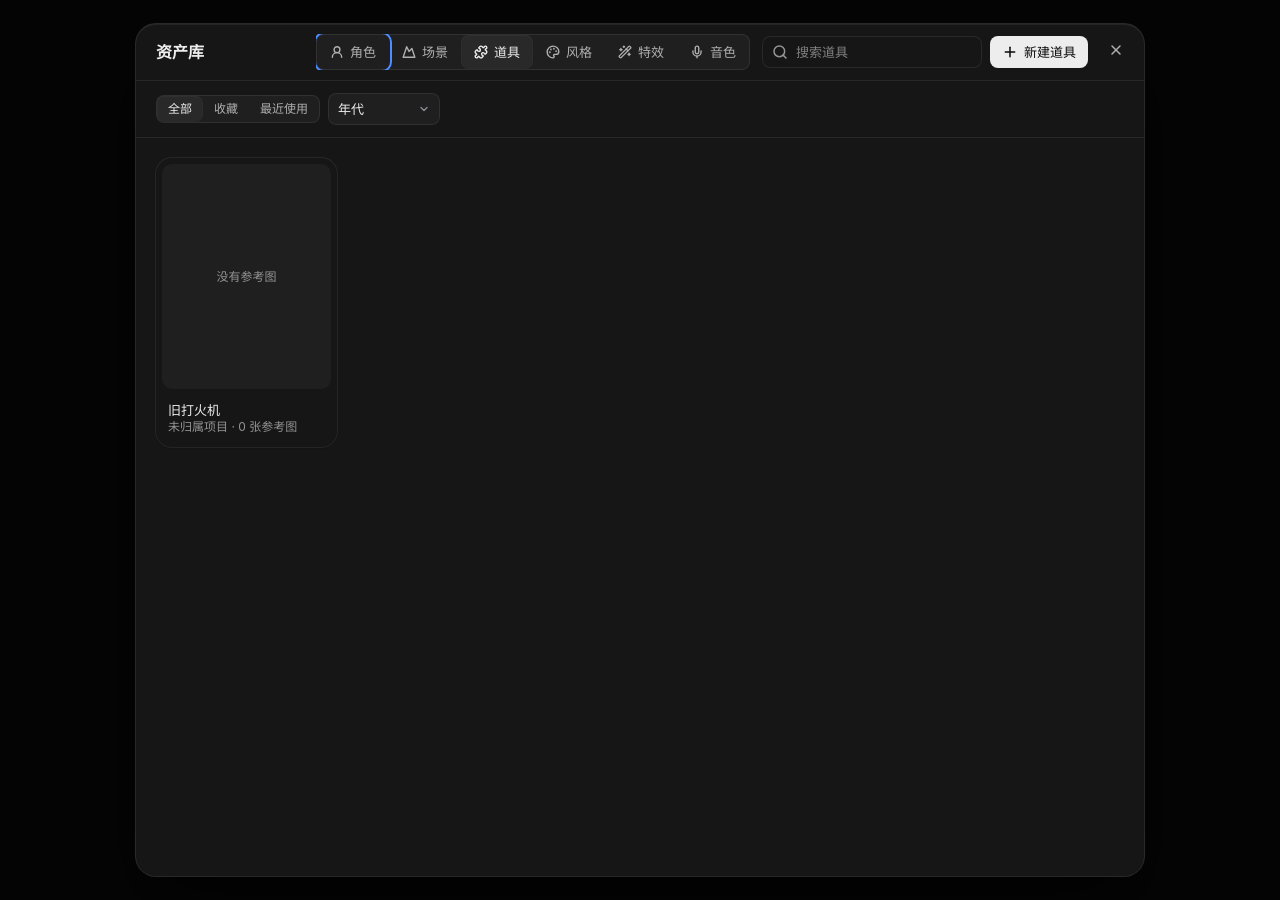
Test: 资产库面板的筛选与来源 › 搜索没有结果时说明是筛选结果，清空后恢复列表
Expected: the text "旧打火机" is shown, top-left (168, 402), bottom-right (220, 418)
Type "不存在的名字" into the search field labelled "搜索道具" at (884,52), box top-left (796, 43), bottom-right (972, 61)
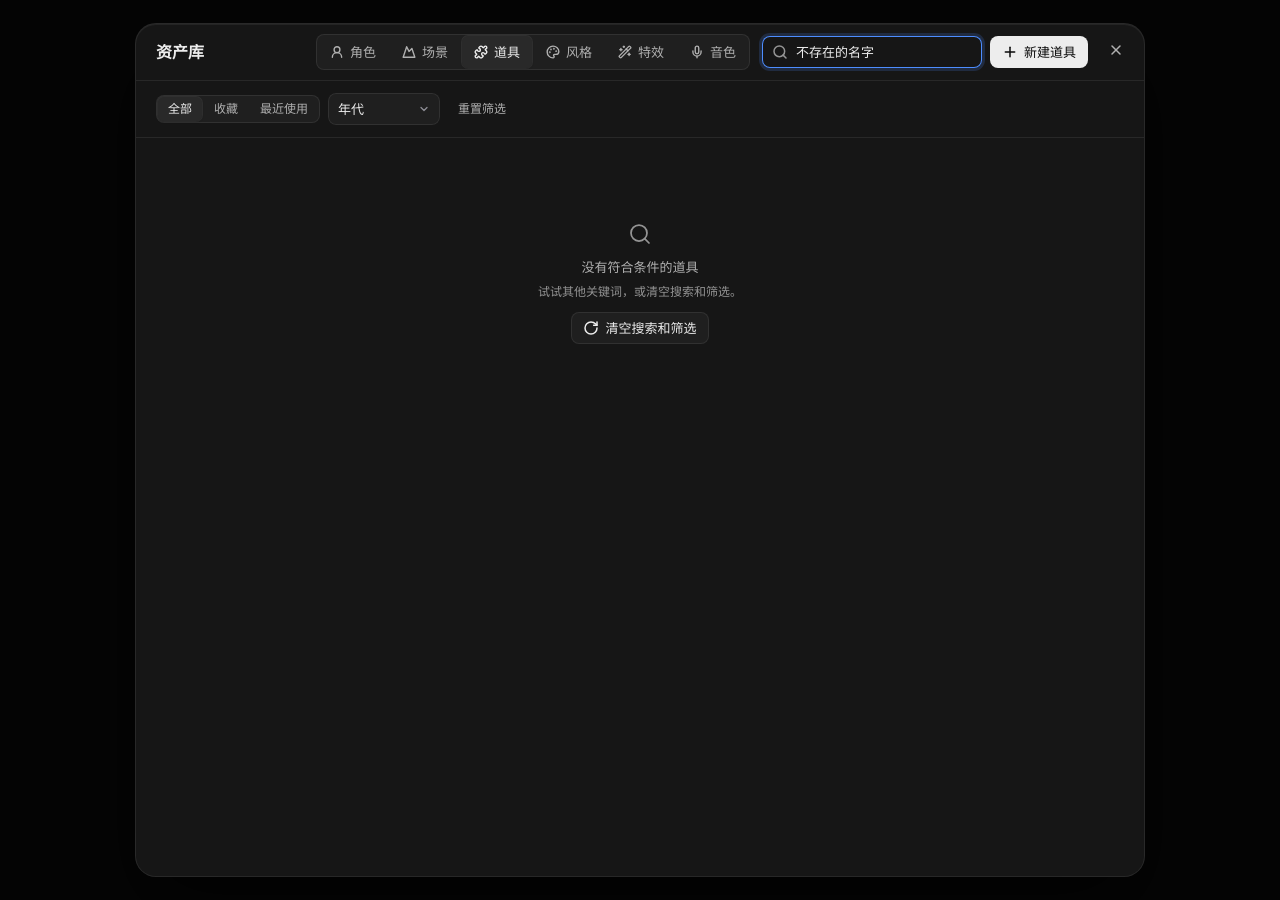
Expected: the text "没有符合条件的道具" is shown, top-left (582, 258), bottom-right (698, 276)
Expected: the text "试试其他关键词，或清空搜索和筛选。" is shown, top-left (538, 284), bottom-right (742, 300)
Click the button "清空搜索和筛选" at (640,328), box top-left (572, 312), bottom-right (708, 344)
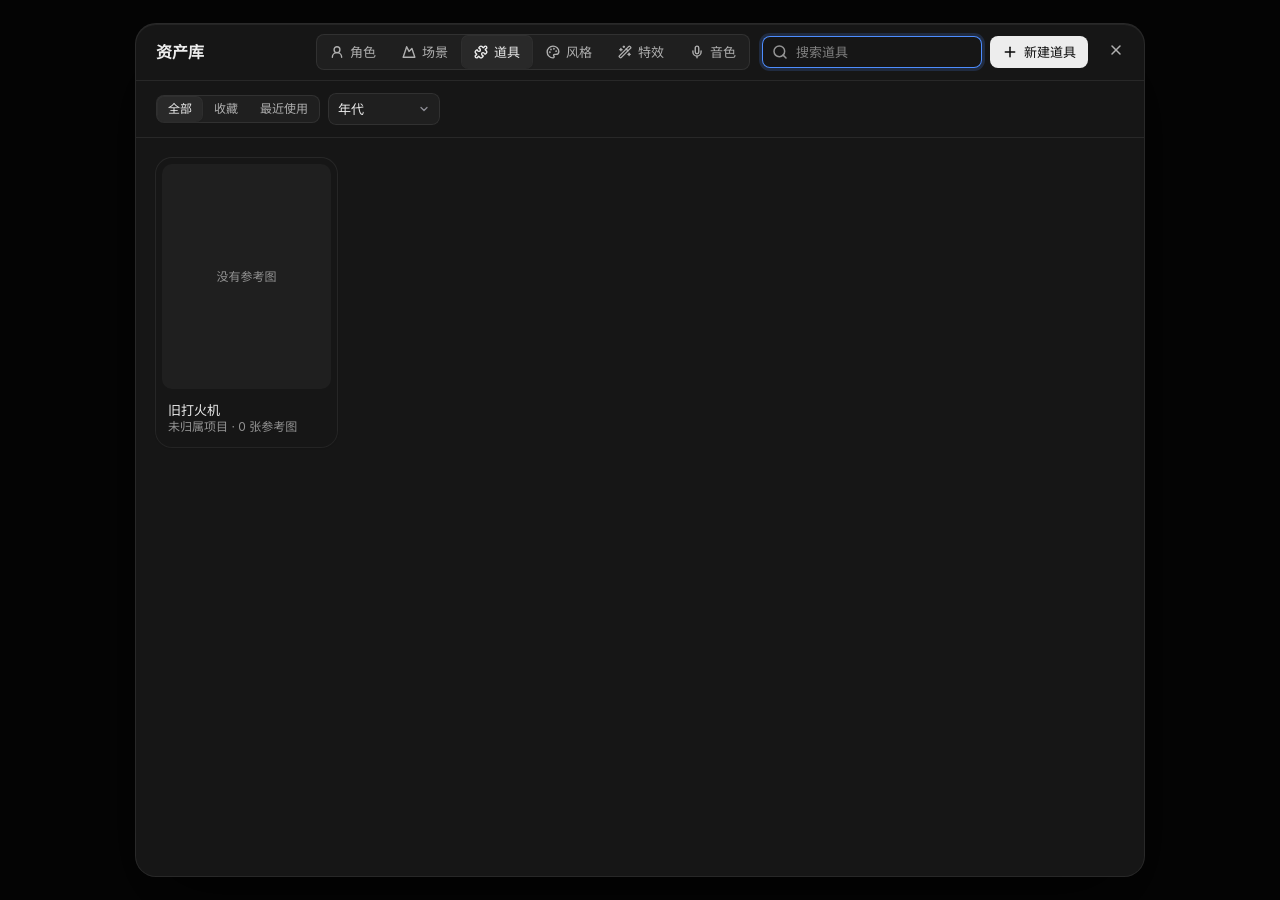
Expected: the text "旧打火机" is shown, top-left (168, 402), bottom-right (220, 418)
